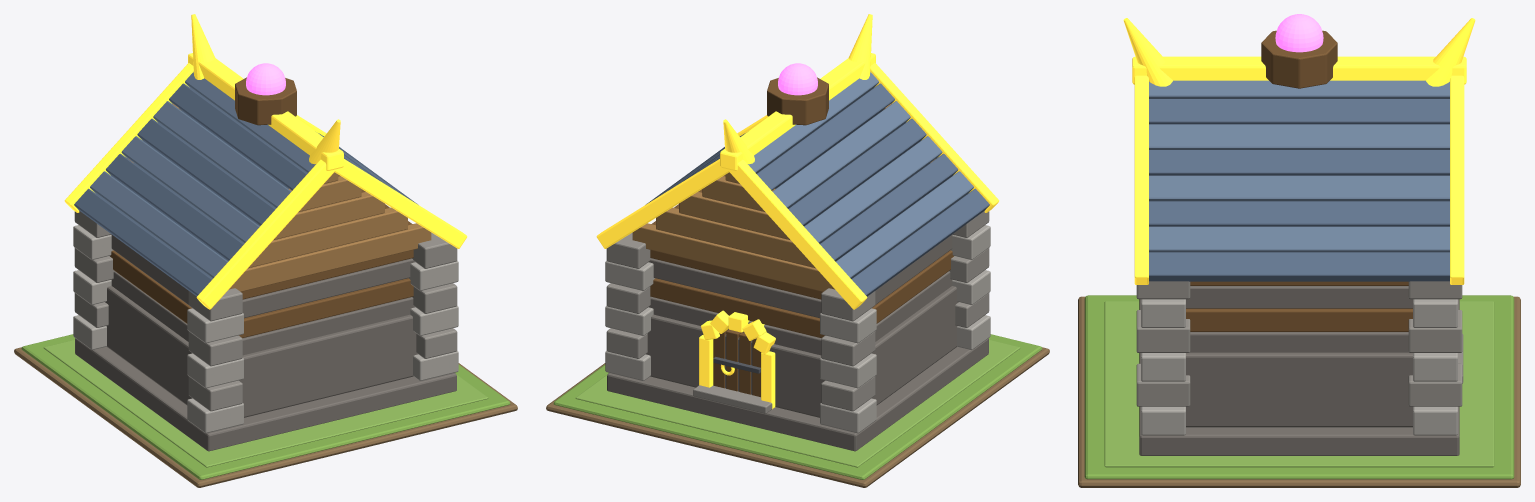
File: builder_hall_lv7.glb
3 views of the same model, side by side, from view 1: azimuth 30°, elevation 25°; view 2: azimuth 150°, elevation 25°; view 3: azimuth 270°, elevation 25° (orthographic). The views are drawn at different scales.
Parts seen in each view (by area): view 1: BH_SlateWainscot, BH_Foundation, Base_Inner, Base_Grass, WallPlank_4, Base_Dirt, WallPlank_5, WallPlank_3, Gable_-1_0, RoofSlope_-1_6, RoofSlope_-1_3, RoofSlope_-1_7 (+34 smaller); view 2: BH_SlateWainscot, BH_Foundation, Base_Inner, Base_Grass, WallPlank_4, Base_Dirt, WallPlank_5, Gable_1_0, RoofSlope_-1_6, RoofSlope_-1_3, RoofSlope_-1_7, RoofSlope_-1_4 (+40 smaller); view 3: BH_SlateWainscot, Base_Inner, Base_Grass, RoofSlope_1_7, BH_Foundation, RoofSlope_1_4, RoofSlope_1_6, RoofSlope_1_1, RoofSlope_1_2, RoofSlope_1_3, RoofSlope_1_5, Base_Dirt (+24 smaller).
Part boxes in pixels (x1,y1,x2,y2): BH_SlateWainscot: (105, 286, 417, 417); BH_Foundation: (75, 338, 456, 451); Base_Inner: (43, 339, 488, 467); Base_Grass: (21, 334, 510, 479); WallPlank_4: (110, 250, 413, 338); Base_Dirt: (14, 347, 517, 487); WallPlank_5: (111, 234, 415, 318); WallPlank_3: (111, 271, 415, 355); Gable_-1_0: (229, 223, 431, 291); RoofSlope_-1_6: (90, 171, 228, 278); RoofSlope_-1_3: (137, 118, 275, 225); RoofSlope_-1_7: (74, 188, 212, 296); BH_SlateWainscot: (646, 286, 958, 417); BH_Foundation: (607, 338, 988, 451); Base_Inner: (575, 339, 1020, 467); Base_Grass: (553, 334, 1042, 479); WallPlank_4: (650, 250, 953, 338); Base_Dirt: (546, 347, 1049, 487); WallPlank_5: (648, 234, 952, 318); Gable_1_0: (632, 223, 834, 291); RoofSlope_-1_6: (835, 171, 973, 278); RoofSlope_-1_3: (788, 118, 926, 225); RoofSlope_-1_7: (851, 188, 989, 296); RoofSlope_-1_4: (804, 136, 942, 243); BH_SlateWainscot: (1186, 352, 1412, 427); Base_Inner: (1104, 301, 1494, 467); Base_Grass: (1084, 295, 1514, 479); RoofSlope_1_7: (1149, 252, 1449, 281); BH_Foundation: (1139, 299, 1459, 455); RoofSlope_1_4: (1149, 175, 1449, 201); RoofSlope_1_6: (1149, 226, 1449, 252); RoofSlope_1_1: (1149, 99, 1449, 124); RoofSlope_1_2: (1149, 124, 1449, 149); RoofSlope_1_3: (1149, 150, 1449, 175); RoofSlope_1_5: (1149, 201, 1449, 226); Base_Dirt: (1078, 296, 1520, 487).
Size of the model in its own units: 3.68 by 3.48 by 3.68.
